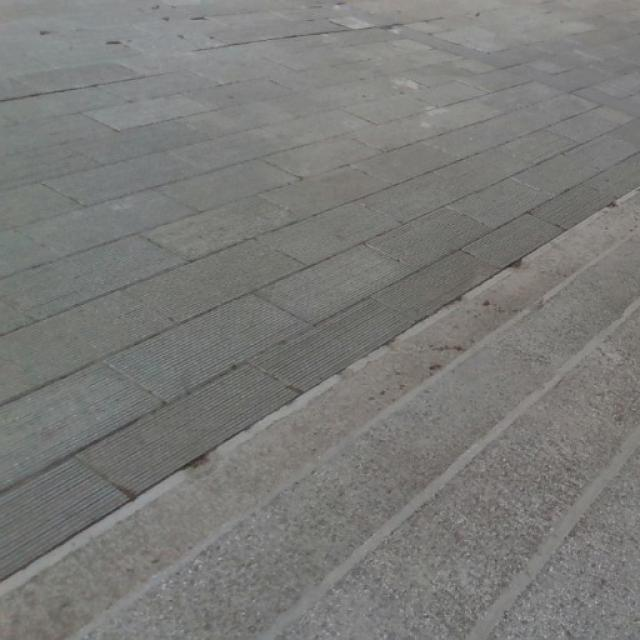Stairs: (0, 181, 639, 639)
